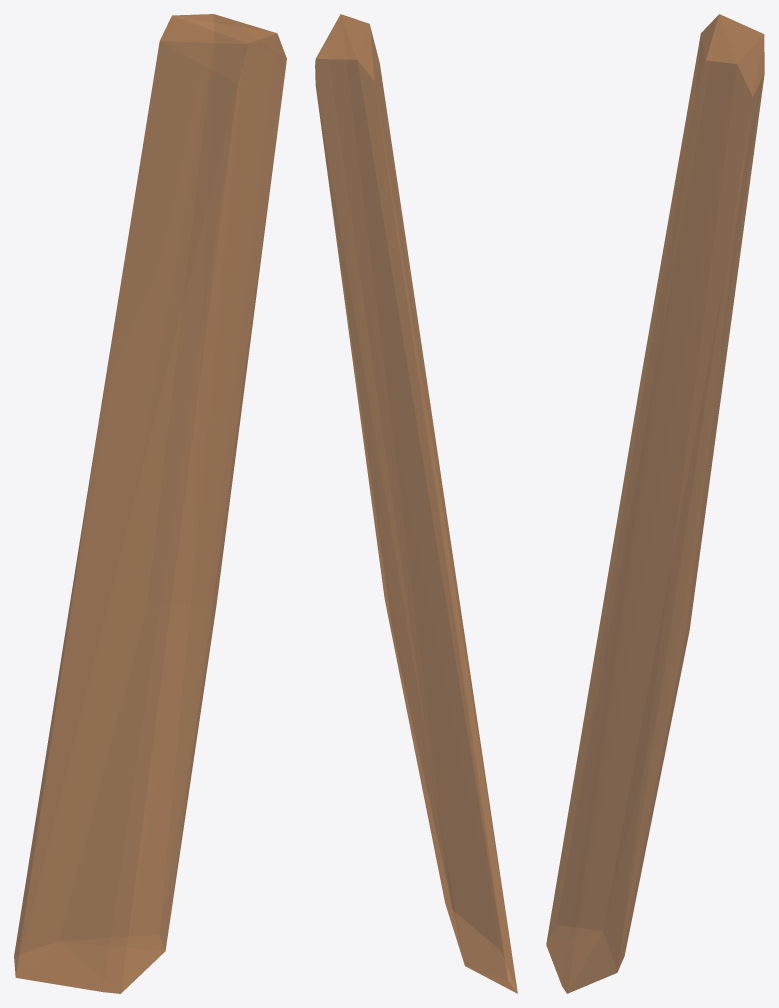
3 views of the same model, side by side, from view 1: azimuth 30°, elevation 25°; view 2: azimuth 150°, elevation 25°; view 3: azimuth 330°, elevation 25° (orthographic). The views are drawn at different scales.
Parts seen in each view (by area): view 1: Shape_IndexedFaceSet.023_Shape_IndexedFaceSet.6430; view 2: Shape_IndexedFaceSet.023_Shape_IndexedFaceSet.6430; view 3: Shape_IndexedFaceSet.023_Shape_IndexedFaceSet.6430.
Part boxes in pixels (box(x1,y1,x2,y2)): Shape_IndexedFaceSet.023_Shape_IndexedFaceSet.6430: box(14, 14, 286, 993); Shape_IndexedFaceSet.023_Shape_IndexedFaceSet.6430: box(315, 14, 517, 993); Shape_IndexedFaceSet.023_Shape_IndexedFaceSet.6430: box(546, 14, 764, 993).
Size of the model in its own units: 0.2867 by 1.08 by 0.1027.
